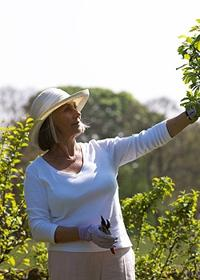person: (25, 89, 200, 280)
